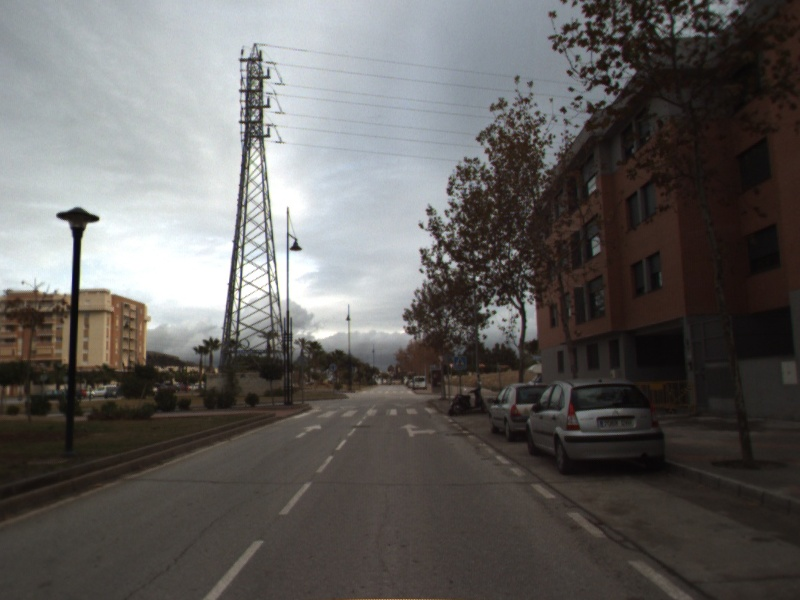STRAIGHT: (293, 422, 324, 440)
STRAIGHT_RIGHT: (398, 422, 437, 439)
